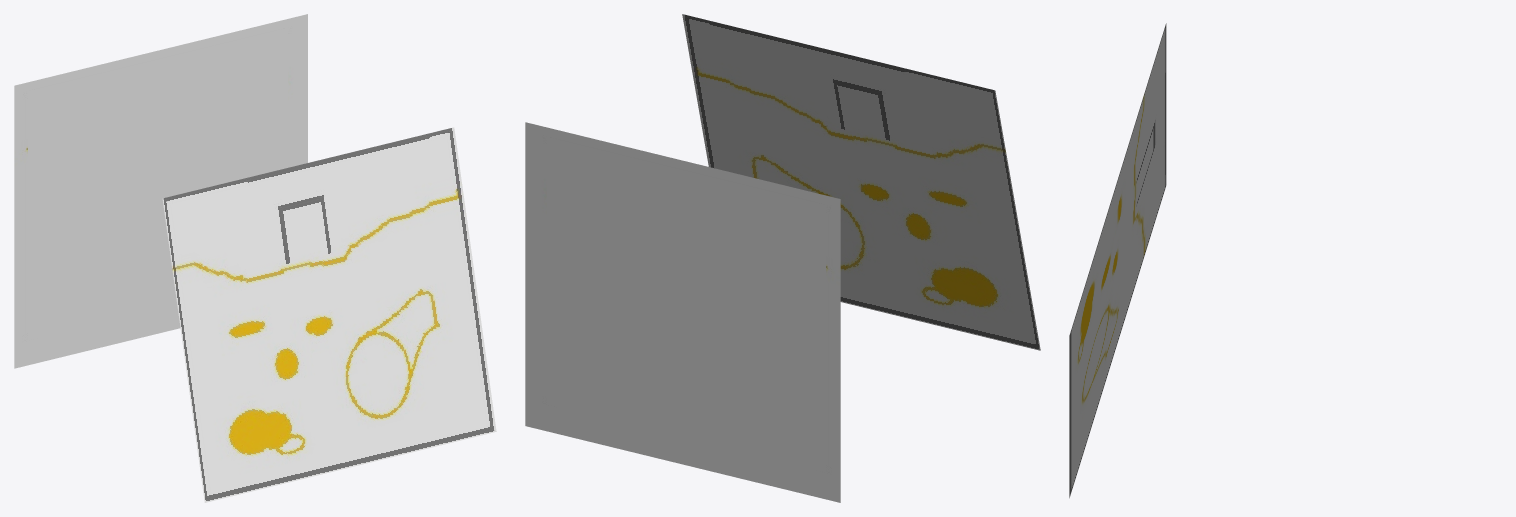
Rendered from Scroodge amplua.glb.
The picture shows the model from 3 angles, left to right: view 1: azimuth 30°, elevation 25°; view 2: azimuth 150°, elevation 25°; view 3: azimuth 270°, elevation 25°; orthographic projection. The views are drawn at different scales.
Visible parts, largest first — view 1: mesh_id29, mesh_id1; view 2: mesh_id1, mesh_id29; view 3: mesh_id29.
Boxes of the visible parts, left/top/right/bottom form: mesh_id29: left=162, top=127, right=496, bottom=502; mesh_id1: left=14, top=14, right=307, bottom=368; mesh_id1: left=525, top=122, right=840, bottom=502; mesh_id29: left=682, top=14, right=1040, bottom=350; mesh_id29: left=1069, top=23, right=1166, bottom=498.
Size of the model in its own units: 0.304 by 0.28 by 0.3379.
2 materials, 2 textured.
